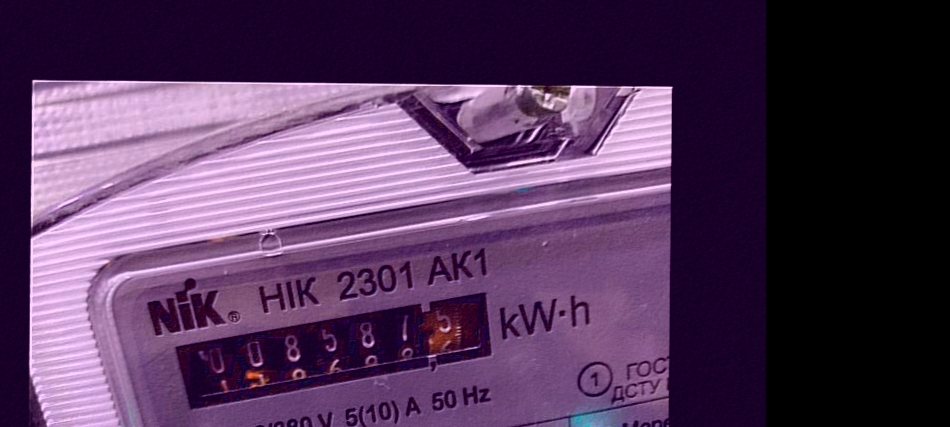0: (242, 336, 268, 370), (204, 344, 230, 376)
5: (318, 324, 341, 355), (432, 303, 455, 334)
6: (437, 338, 455, 355)
7: (393, 312, 416, 346)
8: (355, 318, 378, 352), (281, 333, 305, 365)
screen: (166, 289, 515, 415)
